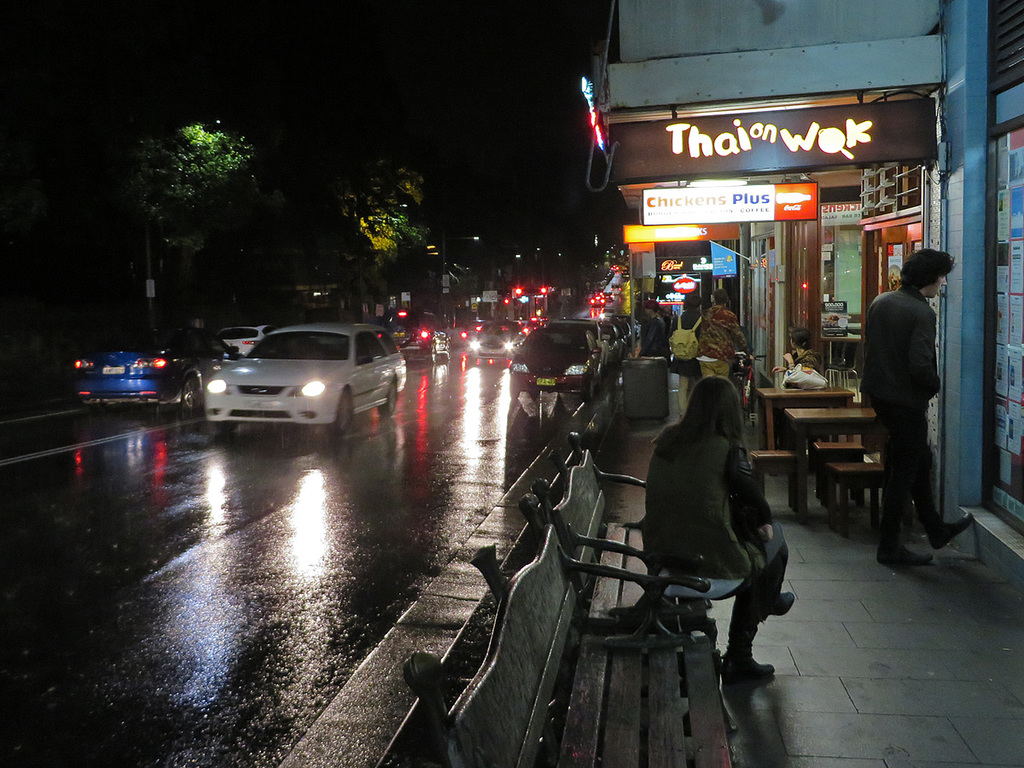Car: (182, 309, 410, 436), (71, 323, 244, 411), (507, 287, 631, 398), (384, 308, 451, 356), (465, 321, 522, 356), (218, 323, 267, 356)
